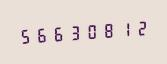eight: (97, 19, 112, 41)
five: (17, 24, 32, 47)
one: (113, 17, 128, 40)
six: (33, 23, 48, 46), (49, 22, 64, 45)
three: (65, 21, 80, 44)
two: (129, 16, 144, 39)
zero: (81, 20, 96, 43)
